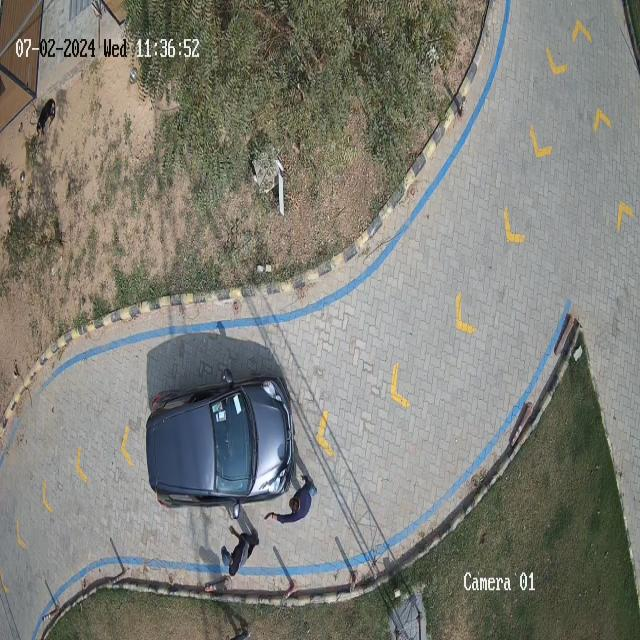car: (146, 373, 296, 510)
